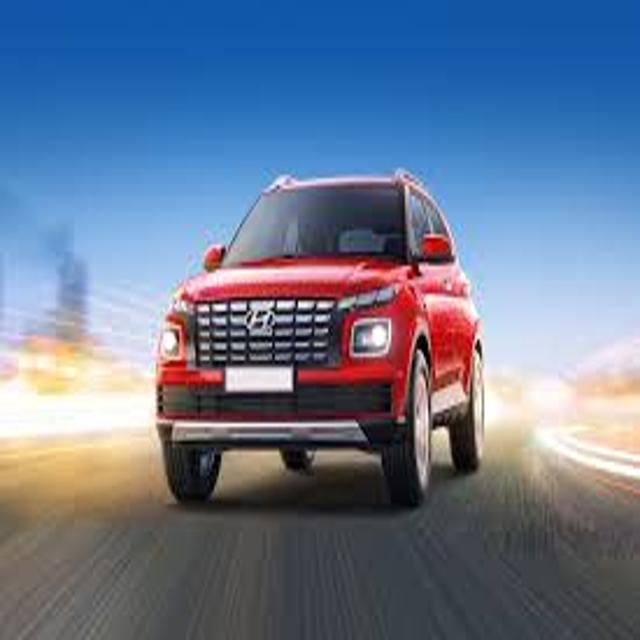car: (155, 178, 483, 506)
